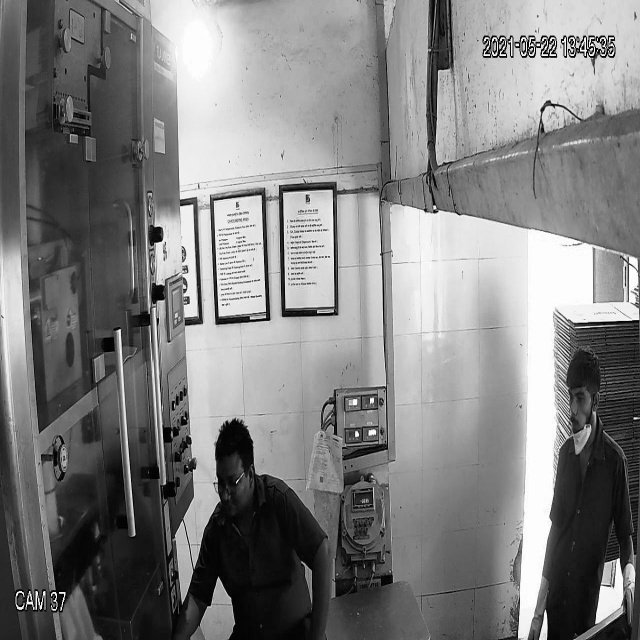Gafas: (211, 468, 251, 500)
Sin_gafas: (564, 385, 598, 413)
